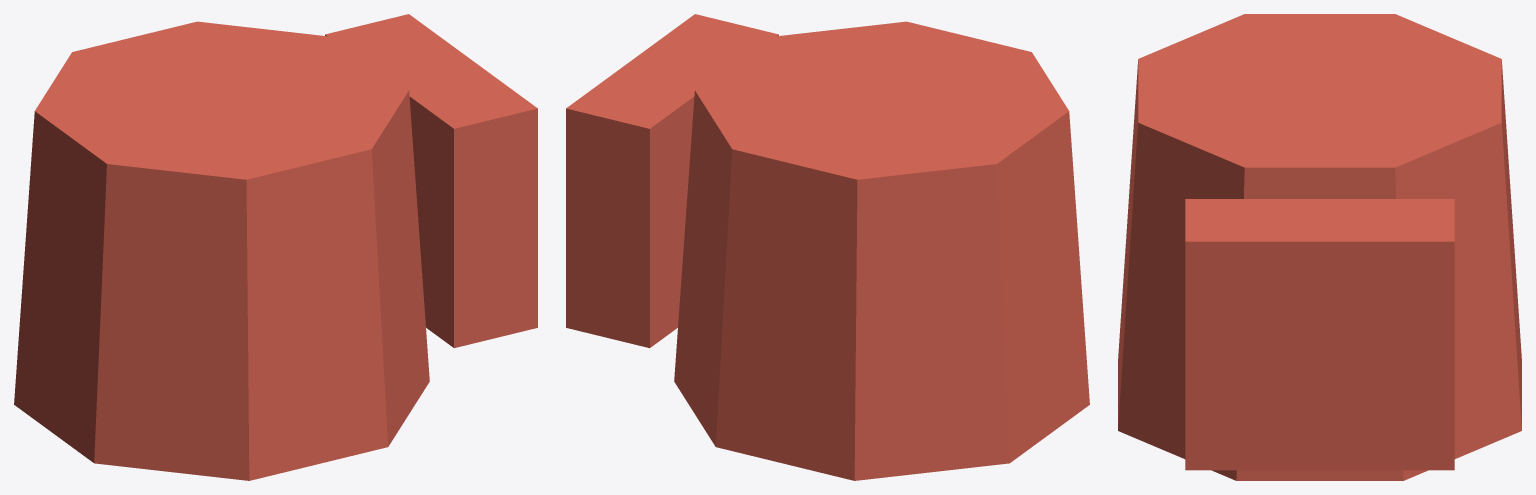
File: mug.obj
3 renders of one model, left to right at view 1: azimuth 30°, elevation 25°; view 2: azimuth 150°, elevation 25°; view 3: azimuth 270°, elevation 25°, orthographic. The views are drawn at different scales.
Visible parts, largest first — view 1: round-mug-body, chunky-mug-handle; view 2: round-mug-body, chunky-mug-handle; view 3: round-mug-body, chunky-mug-handle.
Part boxes in pixels (x1=…): round-mug-body: x1=14, y1=21, x2=429, y2=480; chunky-mug-handle: x1=325, y1=14, x2=537, y2=348; round-mug-body: x1=674, y1=21, x2=1089, y2=480; chunky-mug-handle: x1=566, y1=14, x2=778, y2=348; round-mug-body: x1=1118, y1=14, x2=1521, y2=480; chunky-mug-handle: x1=1185, y1=199, x2=1454, y2=470.
Size of the model in its own units: 0.3001 by 0.2 by 0.2402.
